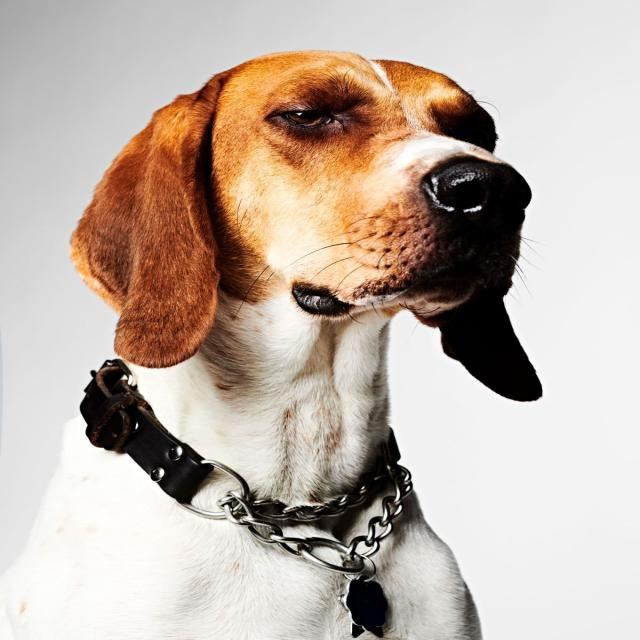Dog: (0, 45, 549, 640)
